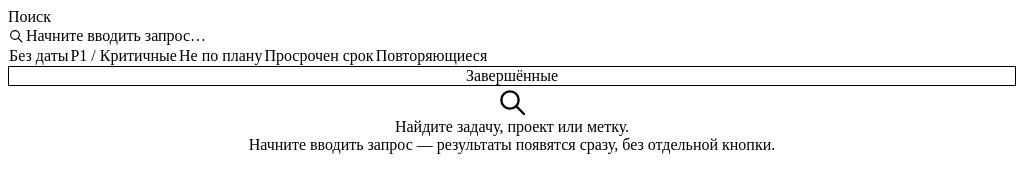
it: Search — Системные фильтры, M34 (01§16, E12.3) › повторный клик по выбранному фильтру снимает выбор — возвращает calm empty state
Step 1. Click the button "Без даты" → (39, 56), box [8,46,69,66]
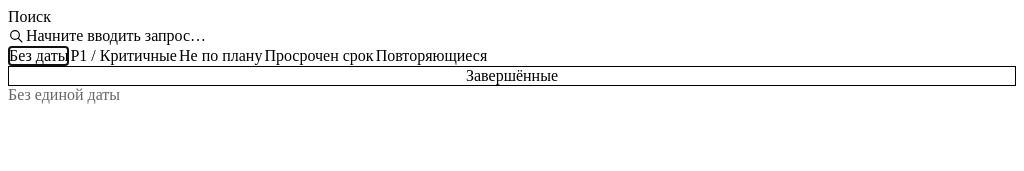
Now the text "Без единой даты" is shown, box [8,86,120,104]
Step 2. Click the button "Без даты" → (39, 56), box [8,46,69,66]
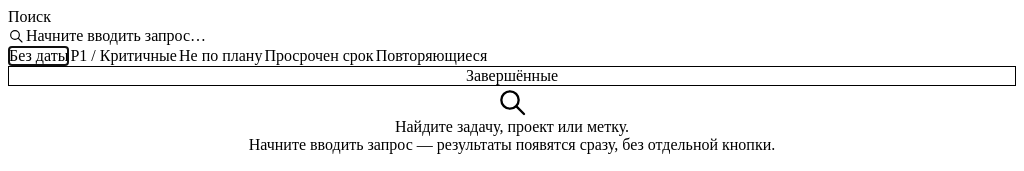
Now the text "Найдите задачу, проект или метку." is shown, box [395,118,629,136]
Now the text "Без единой даты" is gone
